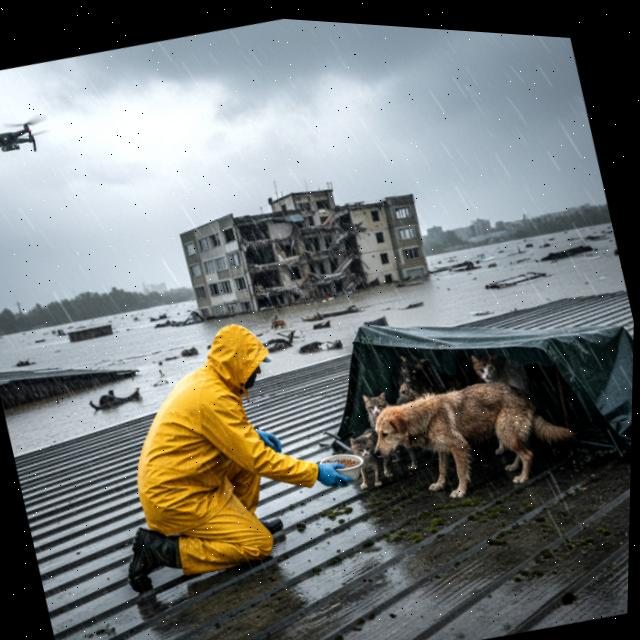cat: (342, 426, 388, 495), (465, 341, 516, 395), (355, 383, 397, 433)
civilian: (63, 273, 379, 626)
dog: (361, 356, 591, 523)
